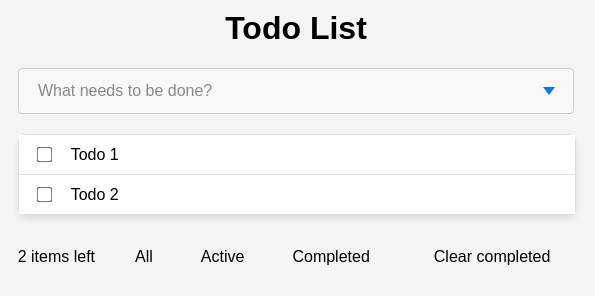
it: проверяем основные функции приложения › выполненные задачи удаляются из списка
The width and height of the screenshot is (595, 296).
Step 1. Click the checkbox next to "Todo 1" → (44, 155), box [36,147,52,163]
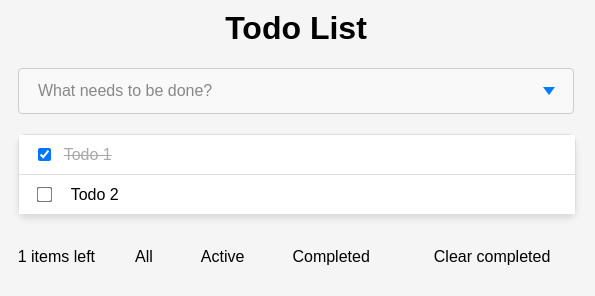
Step 2. Click the button "Clear completed" → (493, 257), box [410,235,575,279]
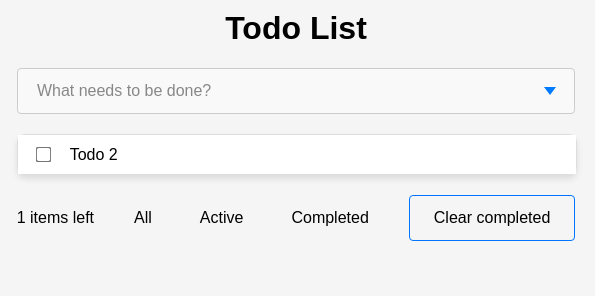
Expected: the list item "Todo 1" is gone
